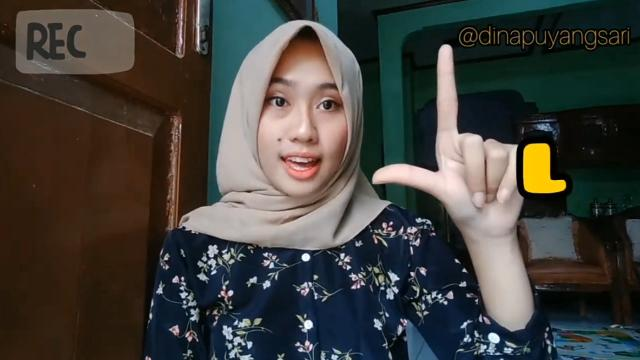L: (372, 40, 516, 240)
